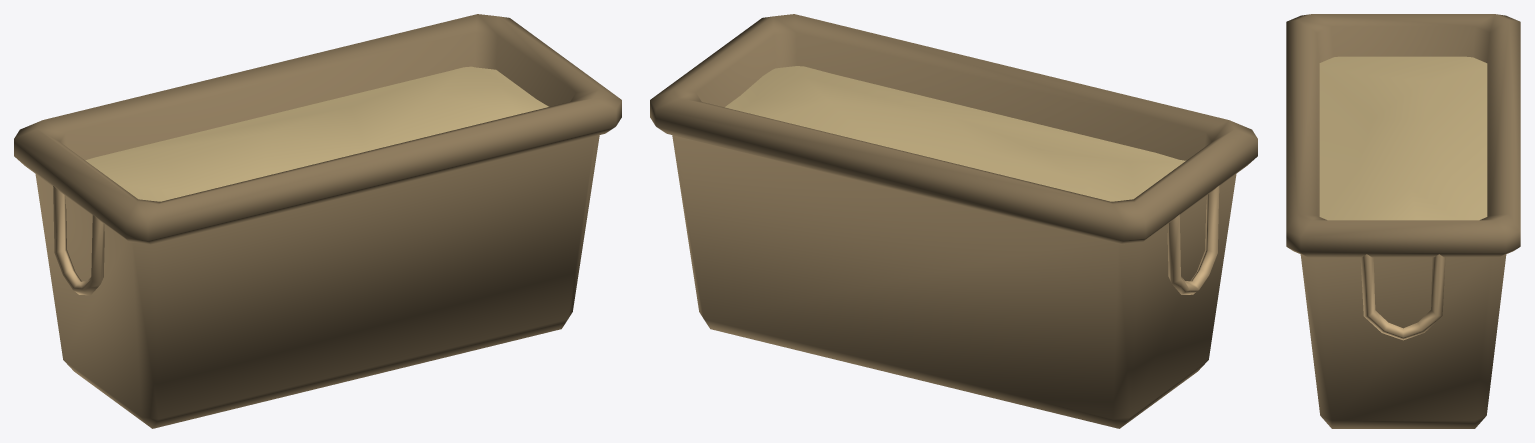
File: rpgpp_ag_basket_03b.fbx
3 renders of one model, left to right at view 1: azimuth 30°, elevation 25°; view 2: azimuth 150°, elevation 25°; view 3: azimuth 270°, elevation 25°, orthographic. The views are drawn at different scales.
Parts seen in each view (by area): view 1: rpgpp_ag_basket_03b; view 2: rpgpp_ag_basket_03b; view 3: rpgpp_ag_basket_03b.
Boxes of the visible parts, x1,y1,x2,y2 form: rpgpp_ag_basket_03b: [14, 14, 621, 428]; rpgpp_ag_basket_03b: [650, 14, 1257, 428]; rpgpp_ag_basket_03b: [1286, 14, 1520, 428].
Bounding box in the file's own units: 1.09 × 0.5048 × 0.4866.
